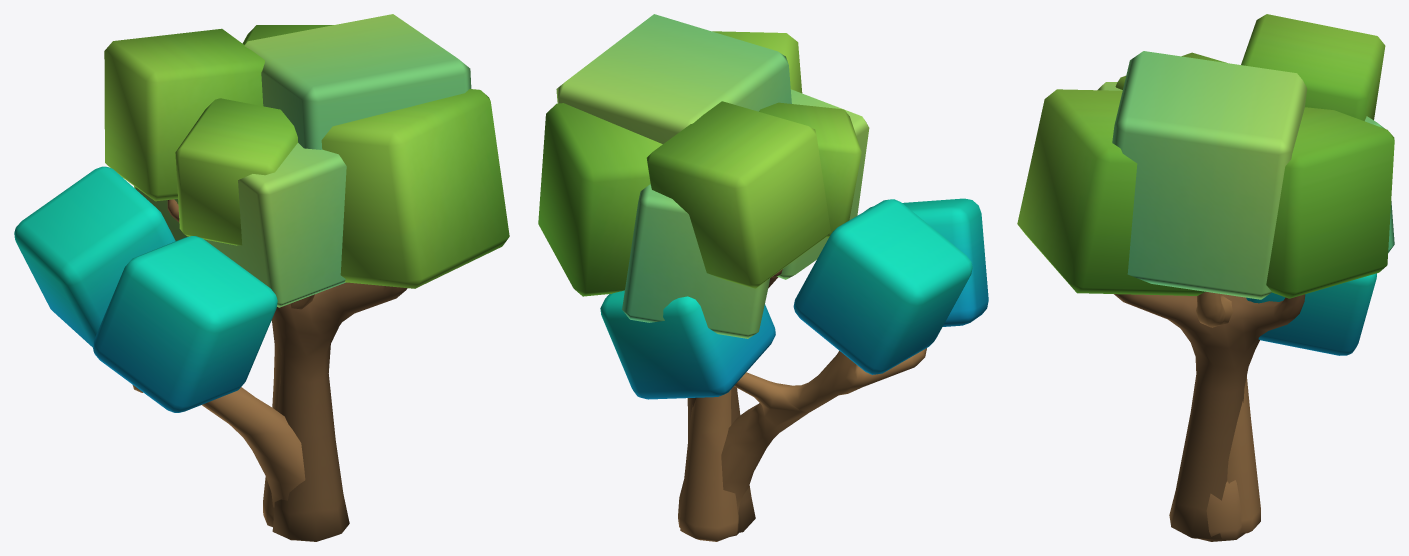
The model's file is treepack.glb.
3 renders of one model, left to right at view 1: azimuth 30°, elevation 25°; view 2: azimuth 150°, elevation 25°; view 3: azimuth 270°, elevation 25°, orthographic. The views are drawn at different scales.
Visible parts, largest first — view 1: tree_1, tree_2, tree_0; view 2: tree_1, tree_2, tree_0; view 3: tree_1, tree_0, tree_2.
Part boxes in pixels (x1=…): tree_1: x1=104, y1=25, x2=509, y2=541; tree_2: x1=14, y1=166, x2=305, y2=540; tree_0: x1=134, y1=14, x2=471, y2=526; tree_1: x1=538, y1=31, x2=861, y2=532; tree_2: x1=600, y1=198, x2=988, y2=536; tree_0: x1=556, y1=14, x2=869, y2=541; tree_1: x1=1017, y1=14, x2=1394, y2=539; tree_0: x1=1097, y1=51, x2=1394, y2=533; tree_2: x1=1198, y1=273, x2=1376, y2=541.
Size of the model in its own units: 0.8126 by 0.9338 by 0.6841.
3 materials, 3 textured.
